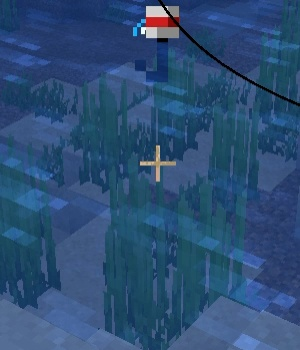up: (132, 3, 183, 81)
